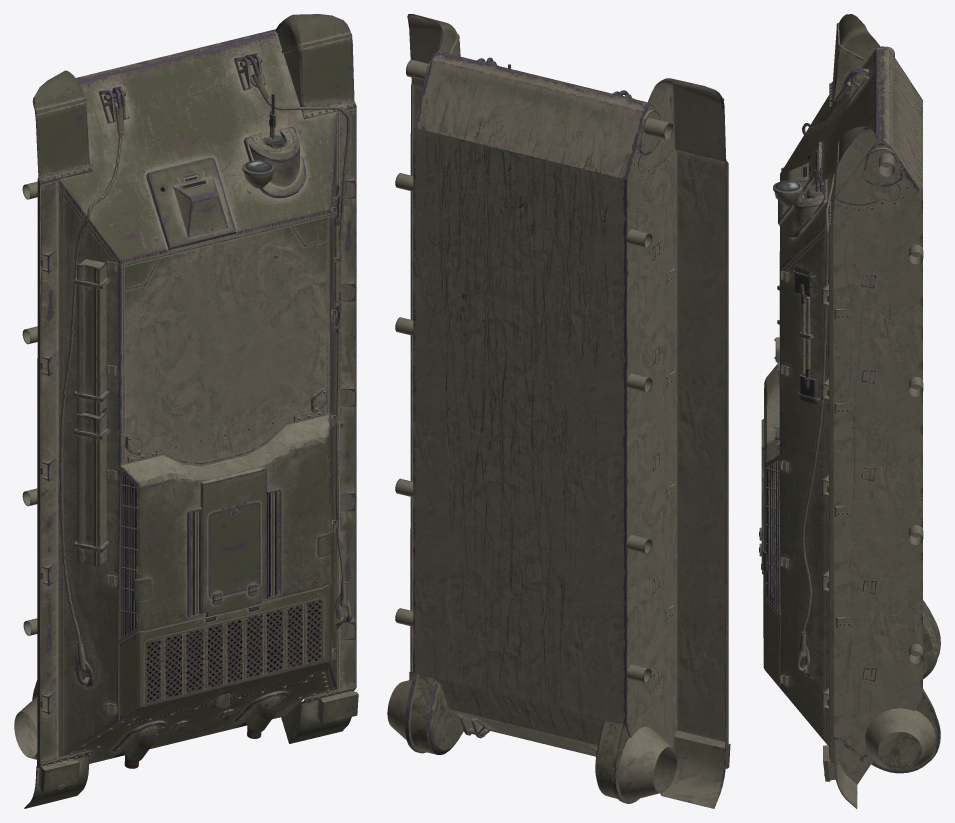
Rendered from Hull.glb.
3 views of the same model, side by side, from view 1: azimuth 30°, elevation 25°; view 2: azimuth 150°, elevation 25°; view 3: azimuth 270°, elevation 25° (orthographic). The views are drawn at different scales.
Parts seen in each view (by area): view 1: set_0_group_0; view 2: set_0_group_0; view 3: set_0_group_0.
Boxes of the visible parts, x1,y1,x2,y2 form: set_0_group_0: (14,14,358,808); set_0_group_0: (387,14,730,808); set_0_group_0: (759,14,940,808).
Size of the model in its own units: 2.66 by 5.79 by 1.44.
Materials: 1 (1 with a texture image).
